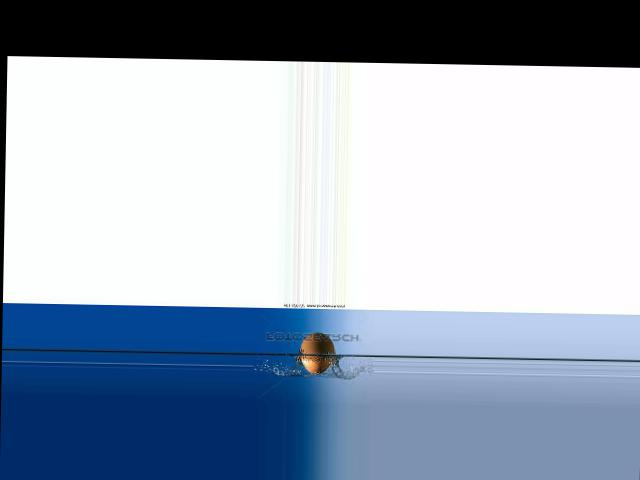egg: (300, 332, 335, 374)
